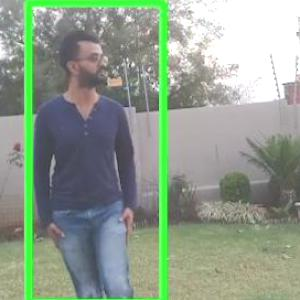follow: (36, 26, 129, 280)
